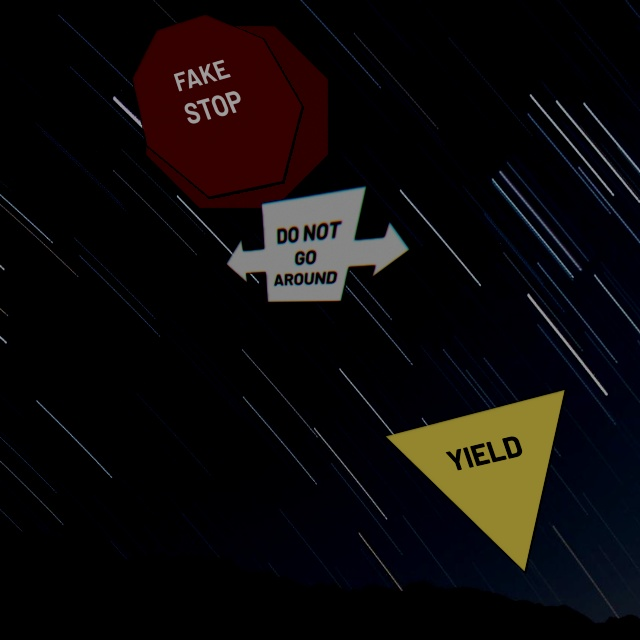DO_NOT_GO_AROUND: (225, 184, 411, 303)
FAKE_STOP: (144, 24, 330, 210), (131, 13, 304, 199)
YIELD: (383, 388, 567, 574)
